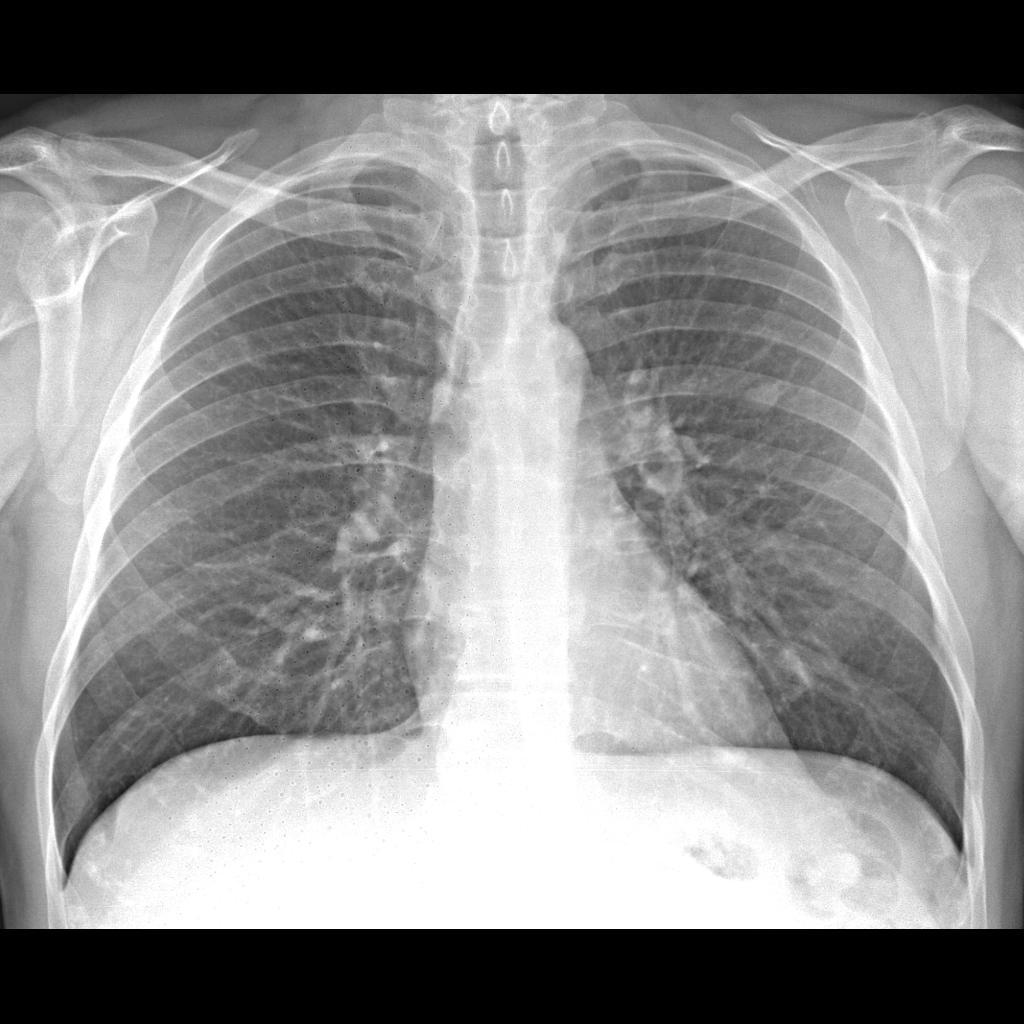Nodule: (738, 379, 789, 420)
